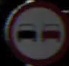No overtake: (8, 5, 64, 53)
